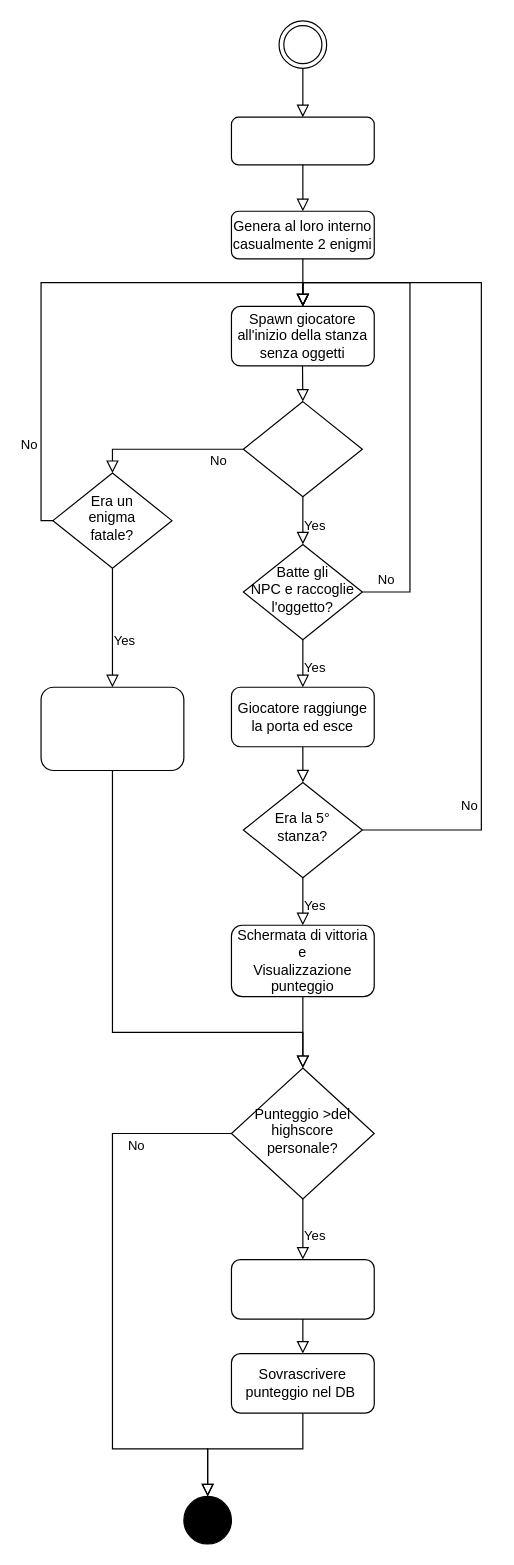
This 514x1565 diagram has some shape labels left out. Here are the shapes that lost their labels. From the top down, the centre of each, then its label:
(302,140): Genera casualmente le 5 stanze
(302,448): Supera gli enigmi?
(112,728): Schermata di Sconfitta e Visualizzazione punteggio
(302,1288): Messaggio "Nuovo HighScore"
